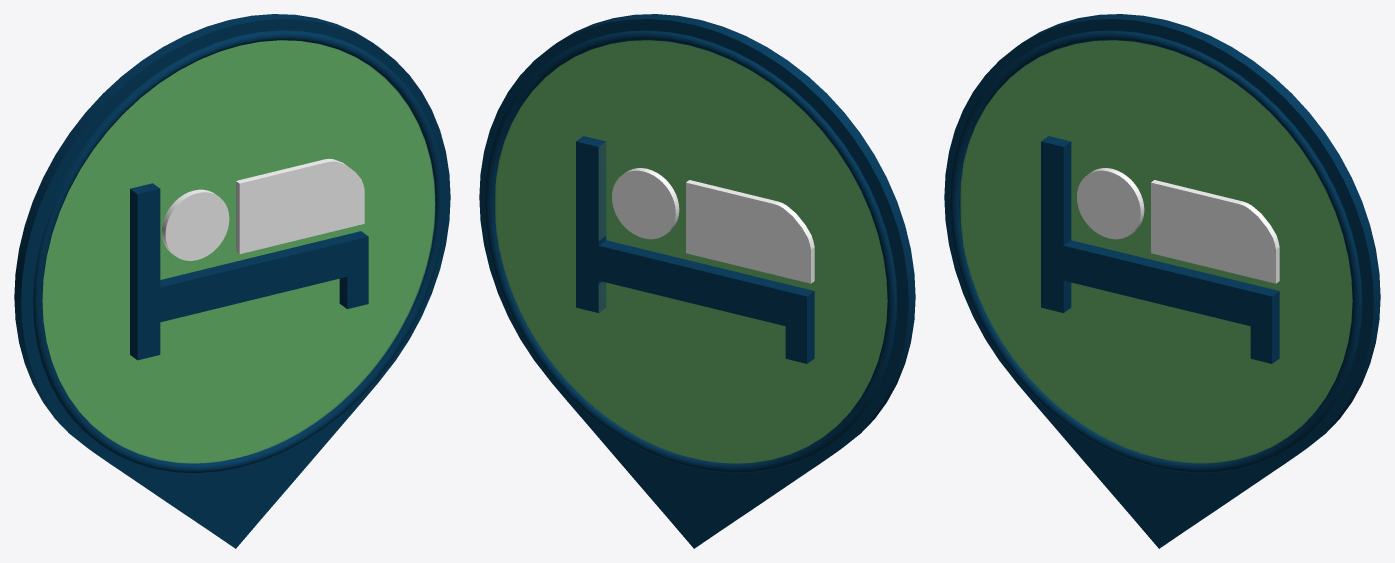
Rendered from Icon_01.obj.
3 views of the same model, side by side, from view 1: azimuth 30°, elevation 25°; view 2: azimuth 150°, elevation 25°; view 3: azimuth 330°, elevation 25° (orthographic).
Parts seen in each view (by area): view 1: Icon__01; view 2: Icon__01; view 3: Icon__01.
Part boxes in pixels (box(x1,y1,x2,y2)): Icon__01: box(14, 14, 450, 548); Icon__01: box(479, 14, 915, 548); Icon__01: box(944, 14, 1380, 548).
Bounding box in the file's own units: 20.03 × 23.35 × 2.14.
1 material, 1 textured.
